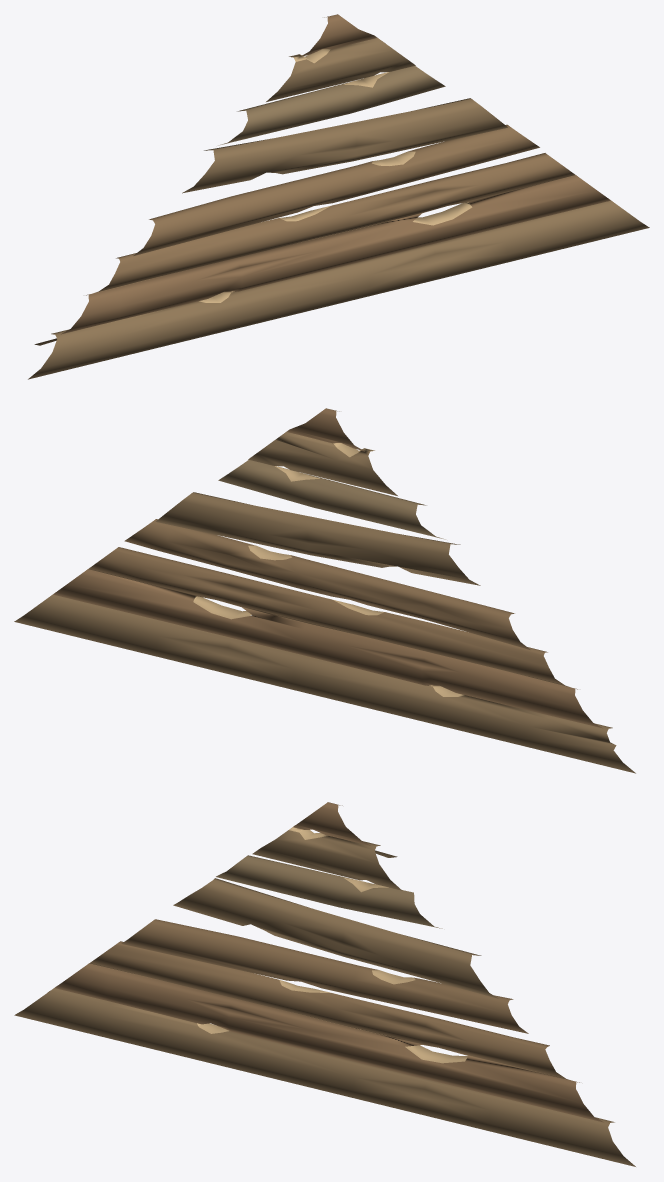
The model's file is rpgpp_av_roof_end_01_9x4_wall_03a.gltf.
3 views of the same model, one above another, from view 1: azimuth 30°, elevation 25°; view 2: azimuth 150°, elevation 25°; view 3: azimuth 330°, elevation 25° (orthographic).
Parts seen in each view (by area): view 1: rpgpp_av_roof_end_01_9x4_wall_03a; view 2: rpgpp_av_roof_end_01_9x4_wall_03a; view 3: rpgpp_av_roof_end_01_9x4_wall_03a.
Part boxes in pixels (bbox=[...]): rpgpp_av_roof_end_01_9x4_wall_03a: bbox=[28, 14, 649, 379]; rpgpp_av_roof_end_01_9x4_wall_03a: bbox=[14, 408, 635, 773]; rpgpp_av_roof_end_01_9x4_wall_03a: bbox=[14, 802, 635, 1166].
Size of the model in its own units: 0.0963 by 0.0423 by 0.00463.
Materials: 1 (1 with a texture image).
